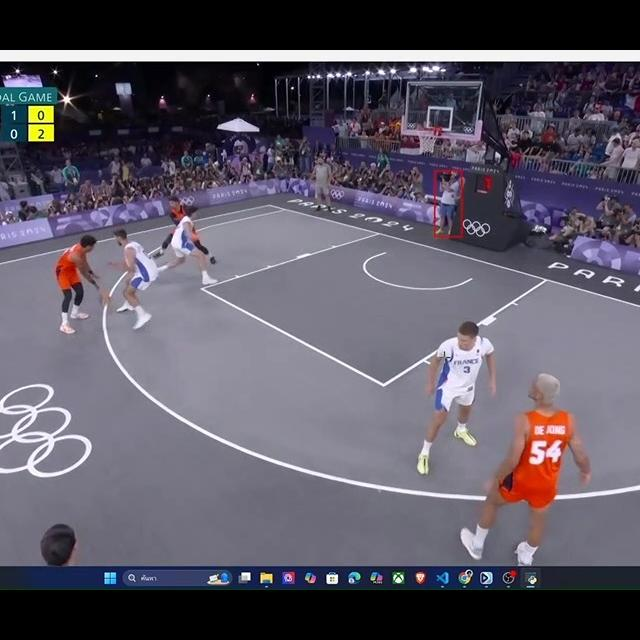hoop: (415, 124, 442, 159)
